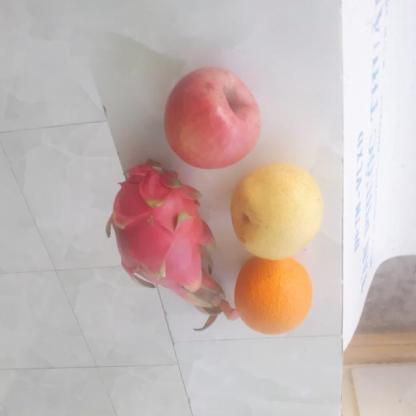apple: (159, 65, 266, 172)
orange: (233, 257, 316, 340)
pear: (228, 161, 329, 263)
pitaya: (105, 165, 221, 295)
